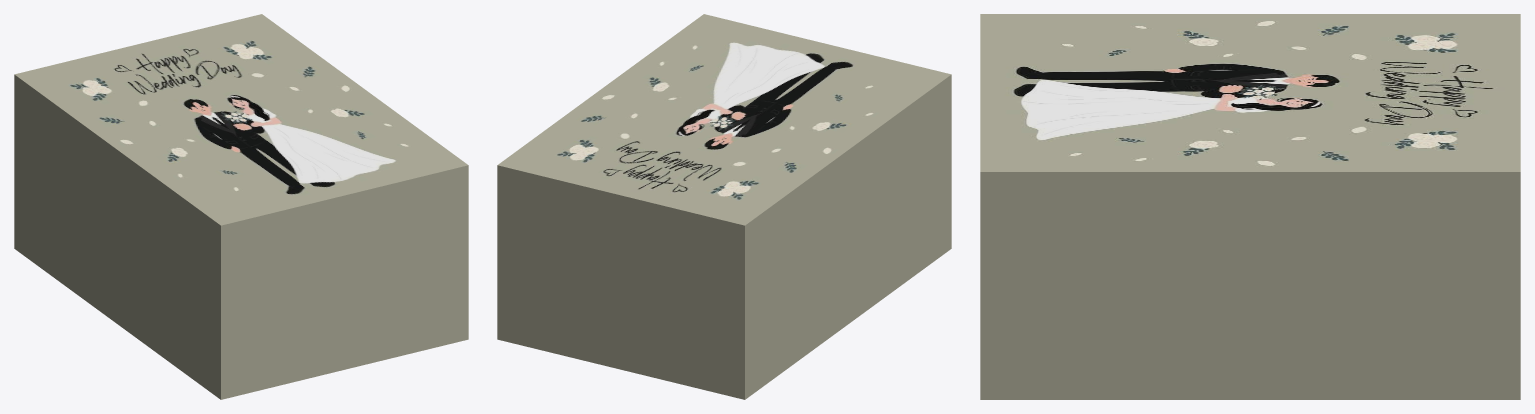
File: DEMO.glb
The picture shows the model from 3 angles, left to right: view 1: azimuth 30°, elevation 25°; view 2: azimuth 150°, elevation 25°; view 3: azimuth 270°, elevation 25°; orthographic projection. The views are drawn at different scales.
Parts seen in each view (by area): view 1: Plane; view 2: Plane; view 3: Plane.
Boxes of the visible parts, x1,y1,x2,y2 form: Plane: (14, 14, 468, 399); Plane: (497, 14, 951, 399); Plane: (980, 14, 1520, 399).
Size of the model in its own units: 4.13 by 2.78 by 5.97.
Materials: 1 (1 with a texture image).
